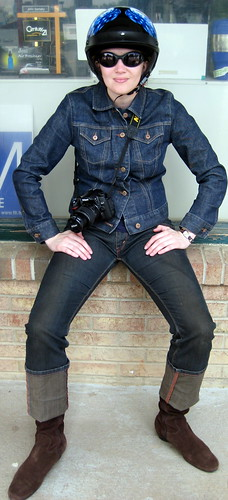helmet: (71, 0, 168, 49)
